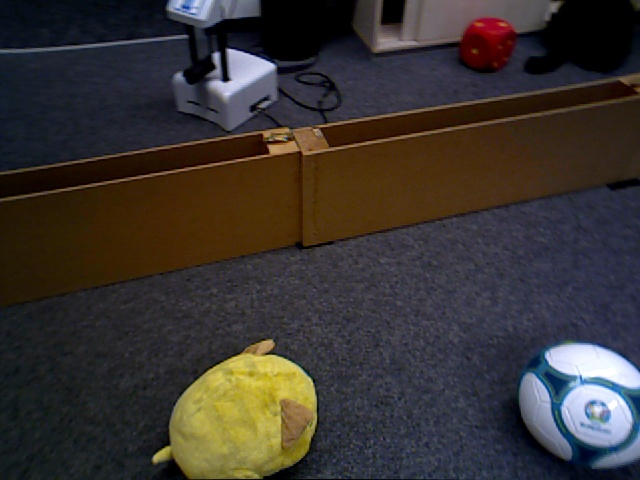grasp: (168, 352, 319, 480)
kick: (517, 341, 640, 469)
